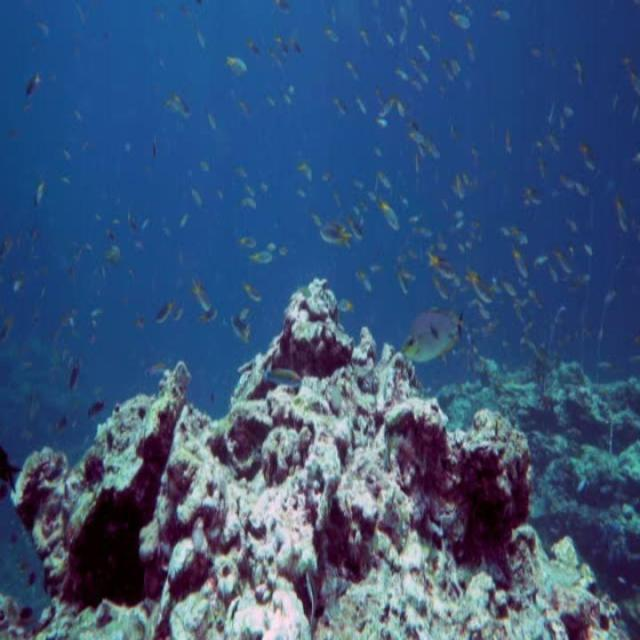Dead Coral: (15, 269, 551, 630)
